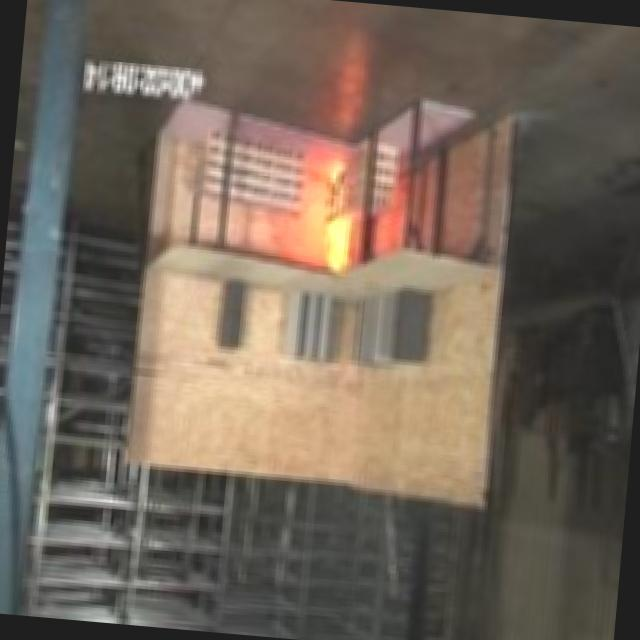fire: (296, 185, 358, 282)
